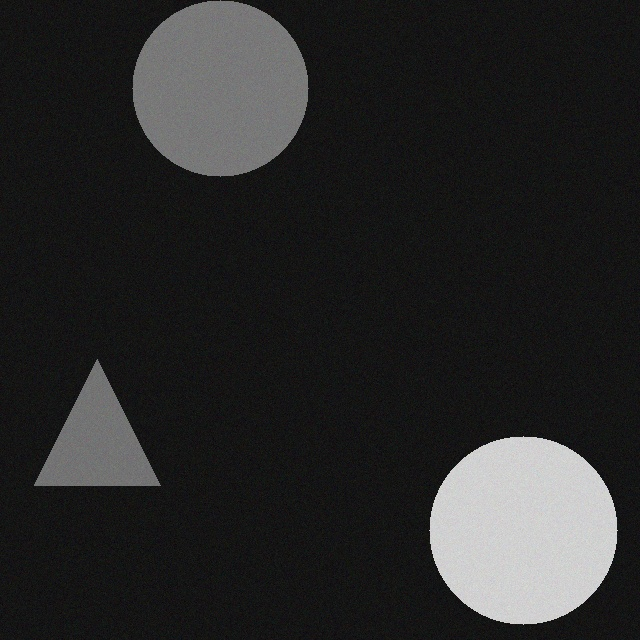circle: (438, 440, 626, 628), (141, 4, 317, 180)
triangle: (43, 363, 169, 489)
